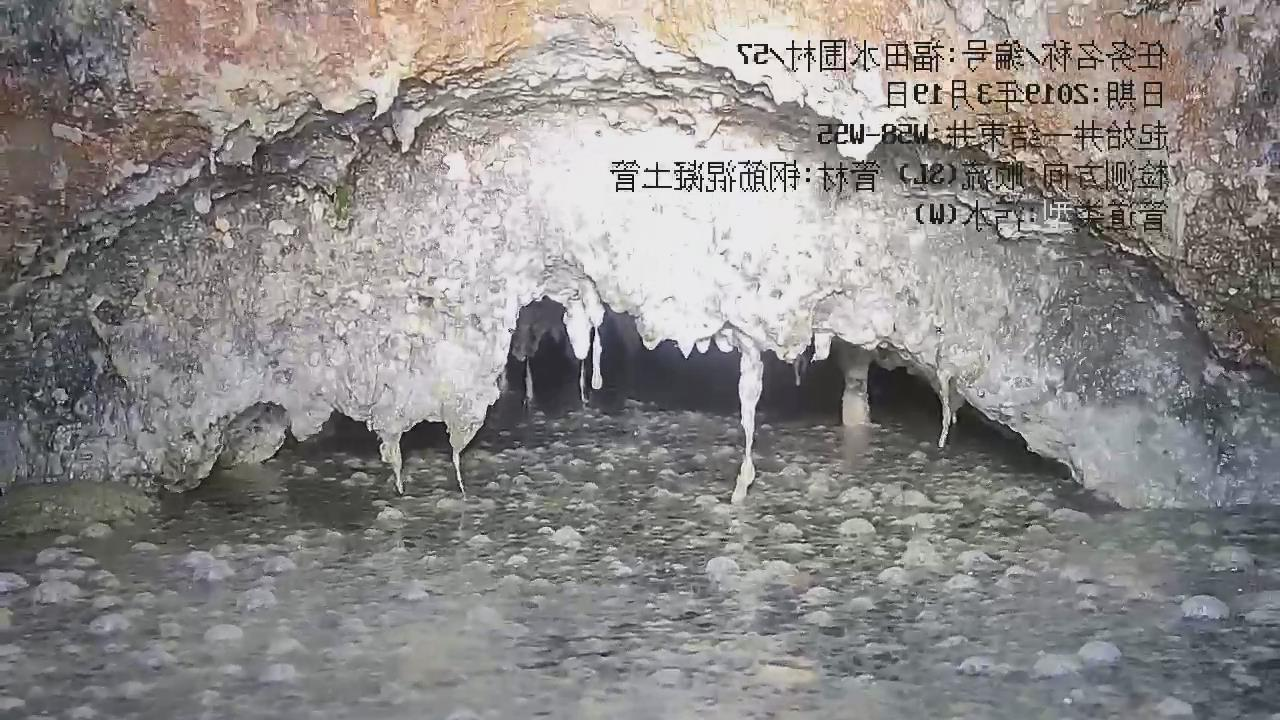FZ: (1, 383, 1280, 719)
JG: (1, 0, 1280, 505)
